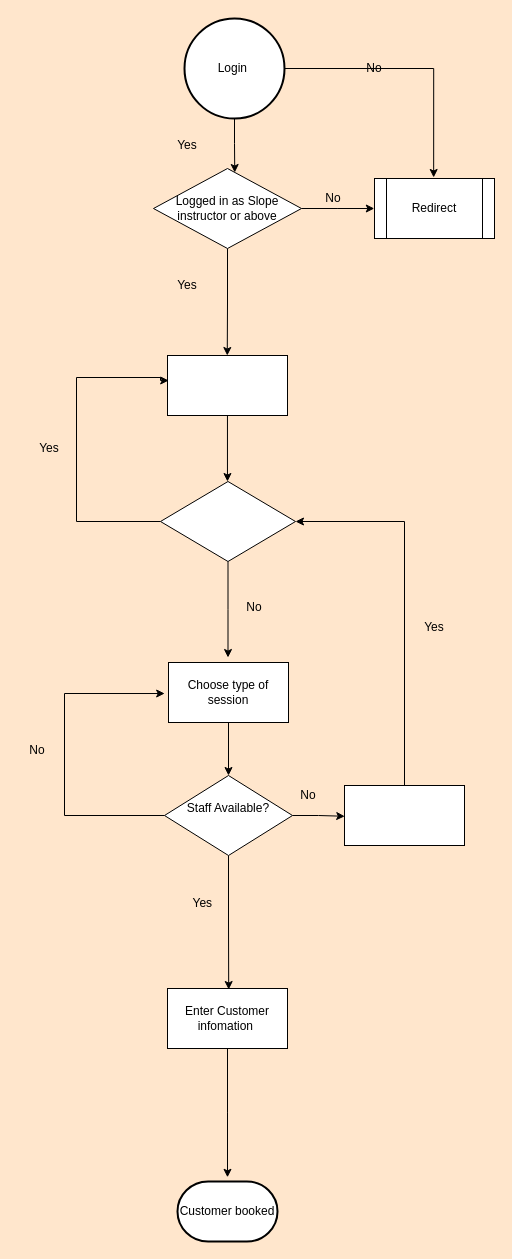
This 512x1259 diagram has some shape labels left out. The shapes that lost their labels are listed below. From the top down, each one's centre as x and y in pixels, then its label:
At (227,385): "Enter Time/Date".
At (228,521): "Already full?".
At (404,815): "Change Date".
